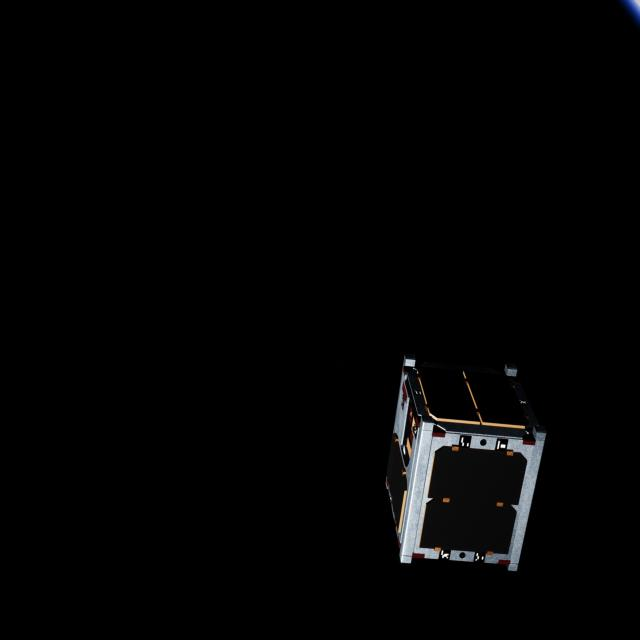medium_debris: (376, 340, 553, 576)
